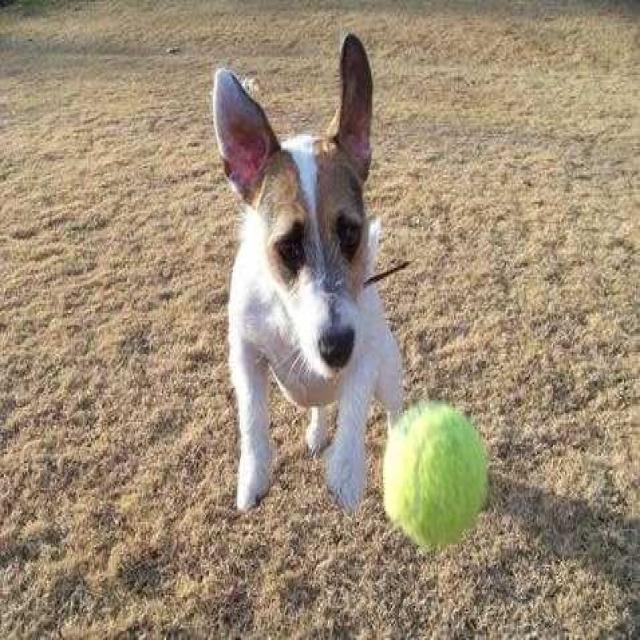Tennis_Ball: (384, 401, 485, 545)
